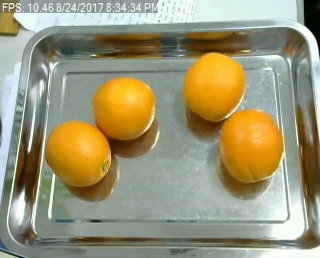Orange: (218, 109, 283, 182), (182, 49, 246, 120), (44, 120, 112, 186), (94, 77, 157, 140)
